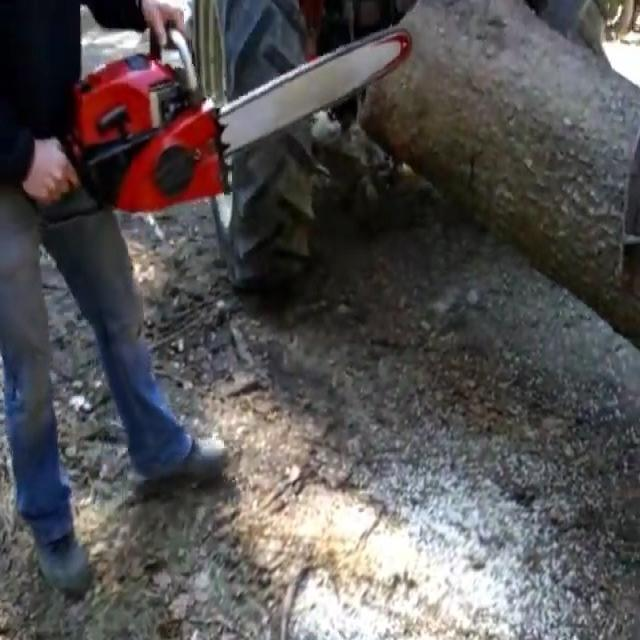Chainsaw: (52, 9, 416, 232)
